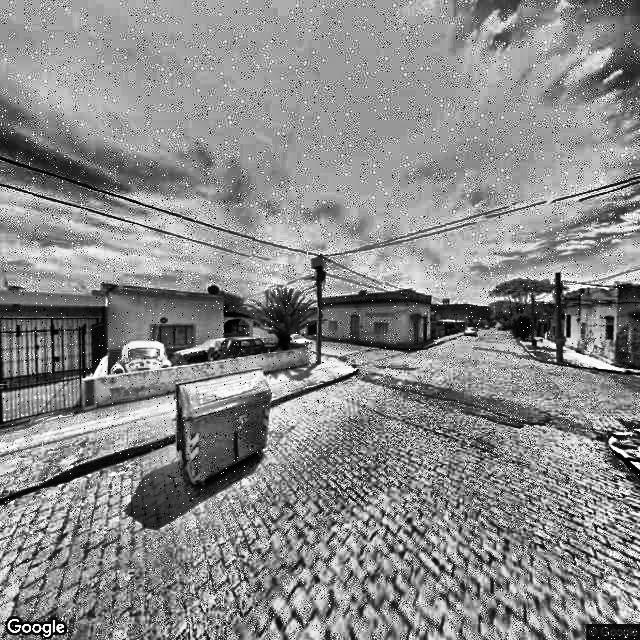Dustbin: (164, 360, 281, 498)
